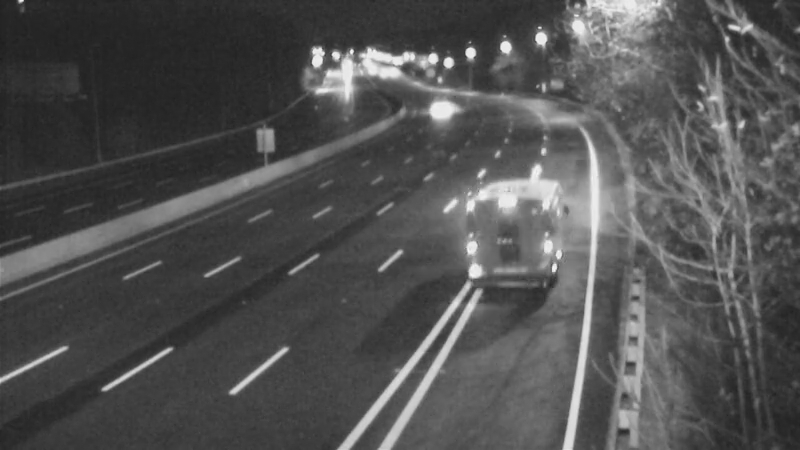vehicle: (470, 185, 550, 265), (413, 81, 463, 131)
